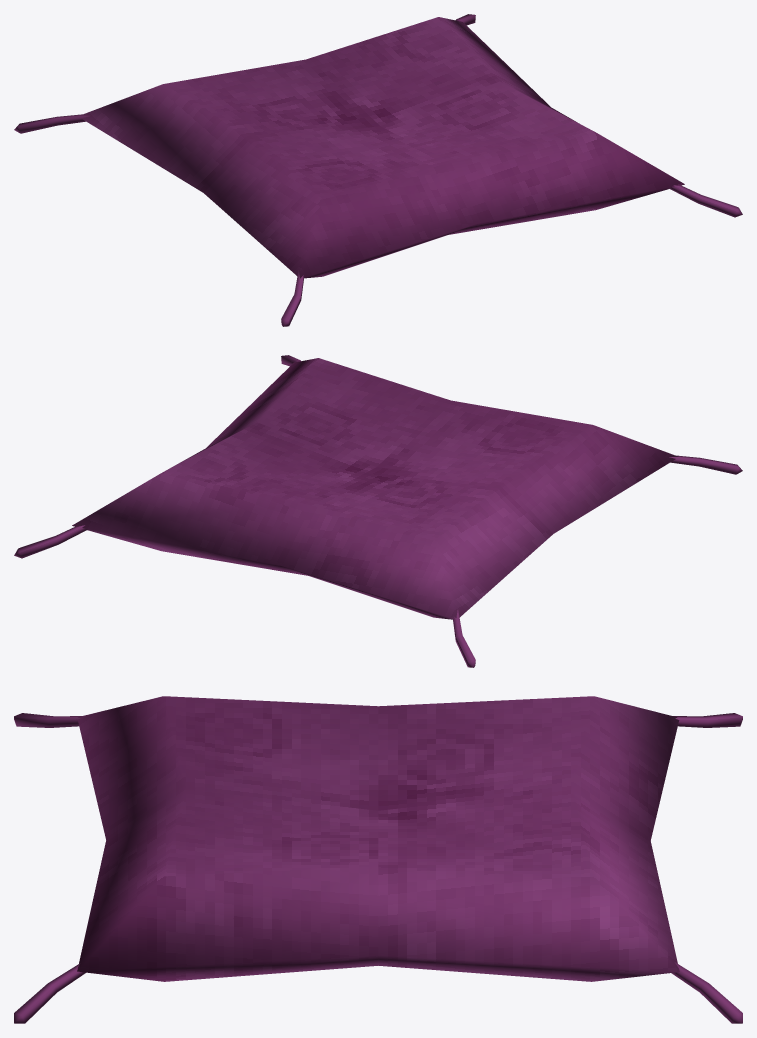
Rendered from cushion_red.fbx.
3 renders of one model, top to bottom at view 1: azimuth 30°, elevation 25°; view 2: azimuth 150°, elevation 25°; view 3: azimuth 270°, elevation 25°, orthographic. The views are drawn at different scales.
Parts seen in each view (by area): view 1: cushion_red; view 2: cushion_red; view 3: cushion_red.
Part boxes in pixels (x1,y1,x2,y2): cushion_red: (14, 14, 742, 326); cushion_red: (14, 355, 742, 667); cushion_red: (14, 696, 742, 1023).
Bounding box in the file's own units: 54.56 × 8.82 × 55.28.
